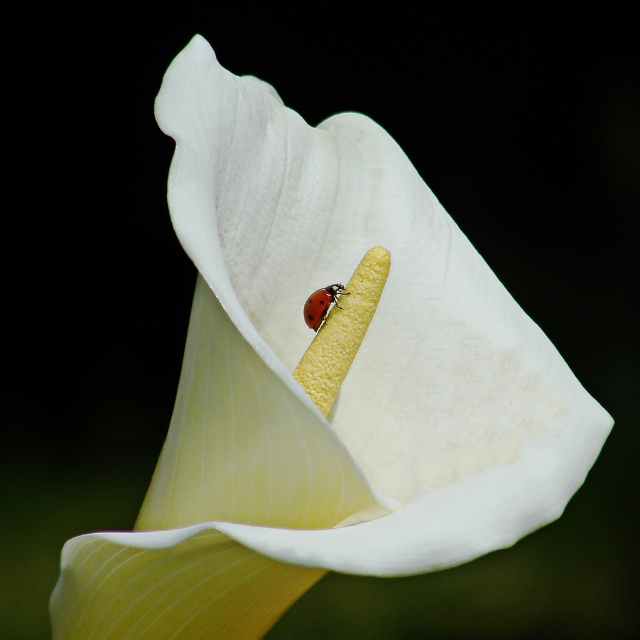Ladybug: (302, 279, 349, 333)
